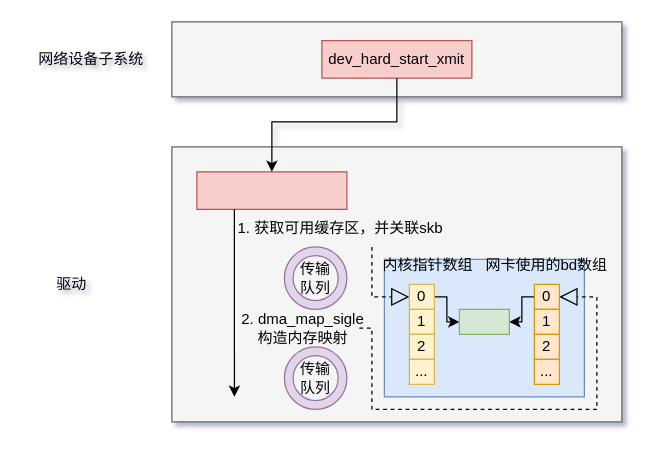
This 651x456 diagram has some shape labels left out. The shapes that lost their labels are listed below. From the top down, each one's centre as x and y in pixels, then its label:
At (271,190): "igb_xmit_frame".
At (483,321): "skb".
